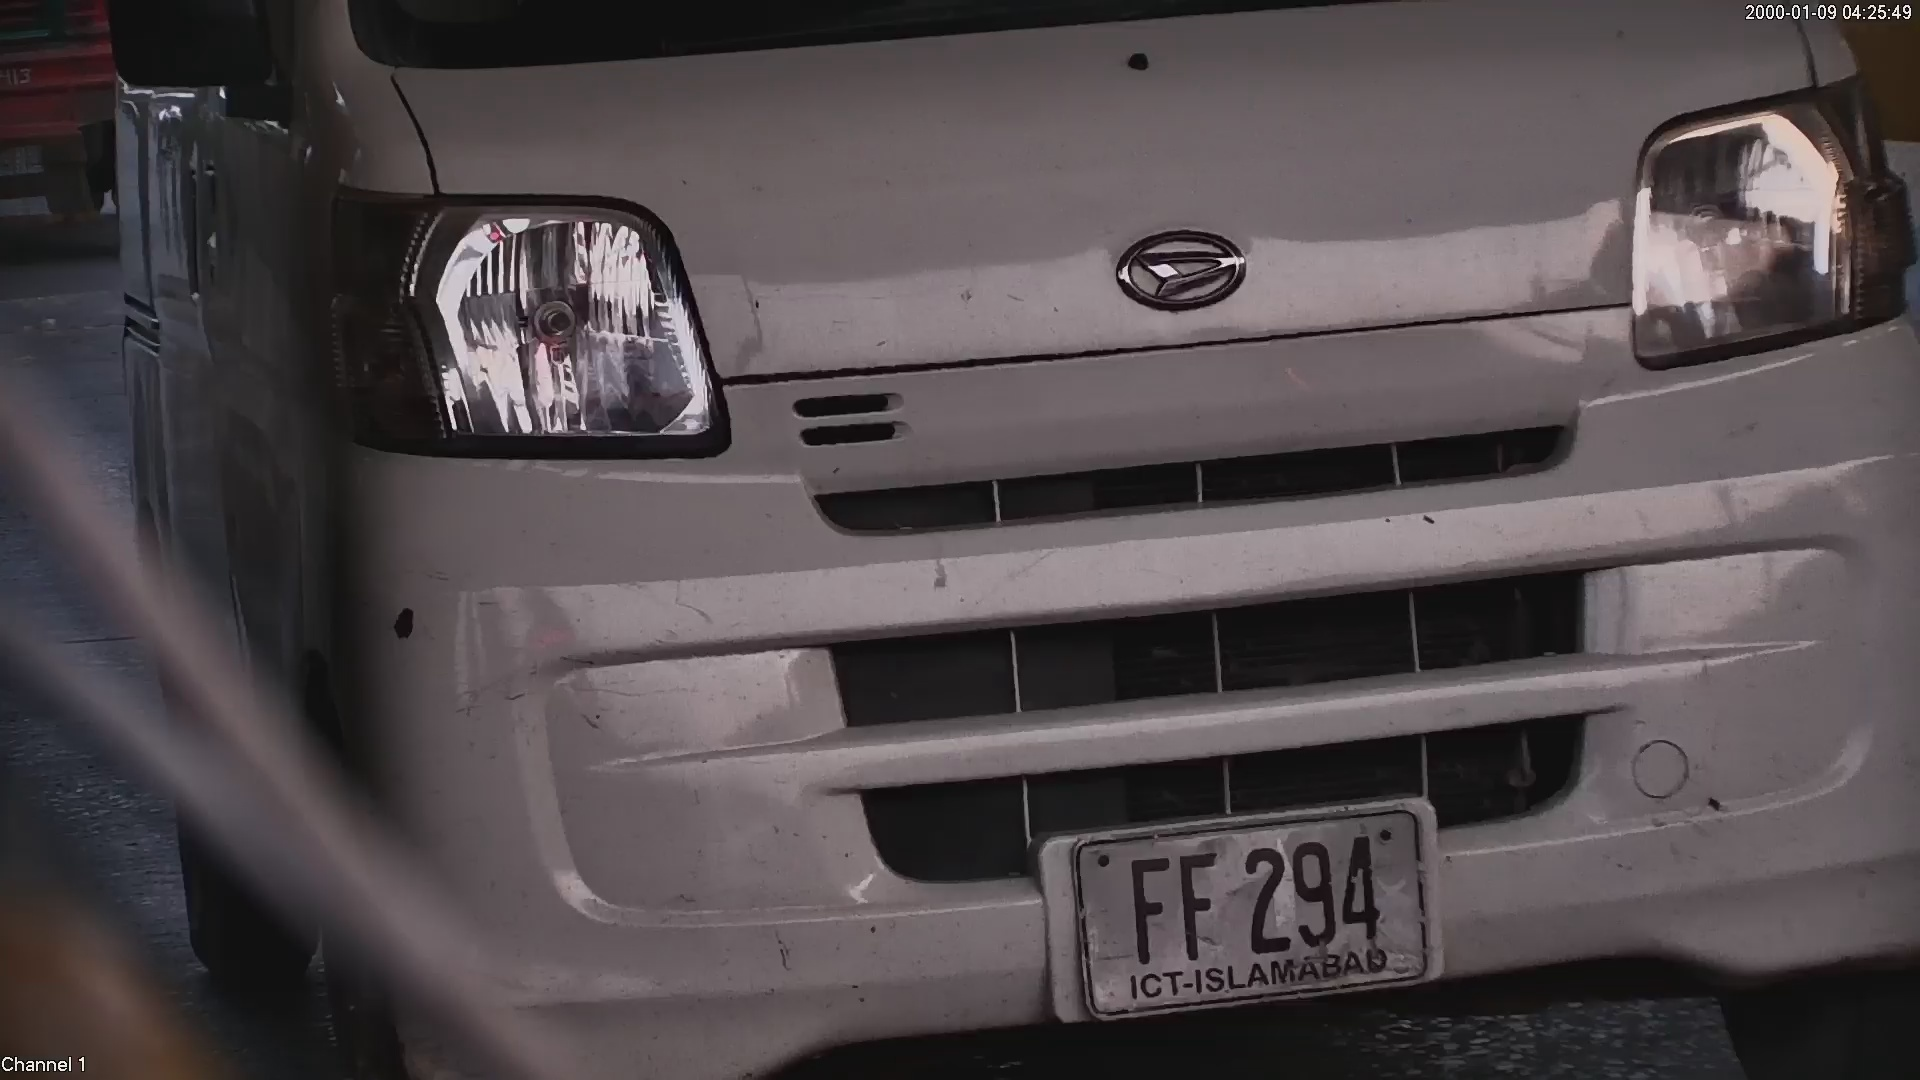Number_Plate: (1056, 783, 1454, 1018)
Undefined: (347, 194, 704, 425), (1623, 103, 1897, 351), (1104, 212, 1254, 325)
